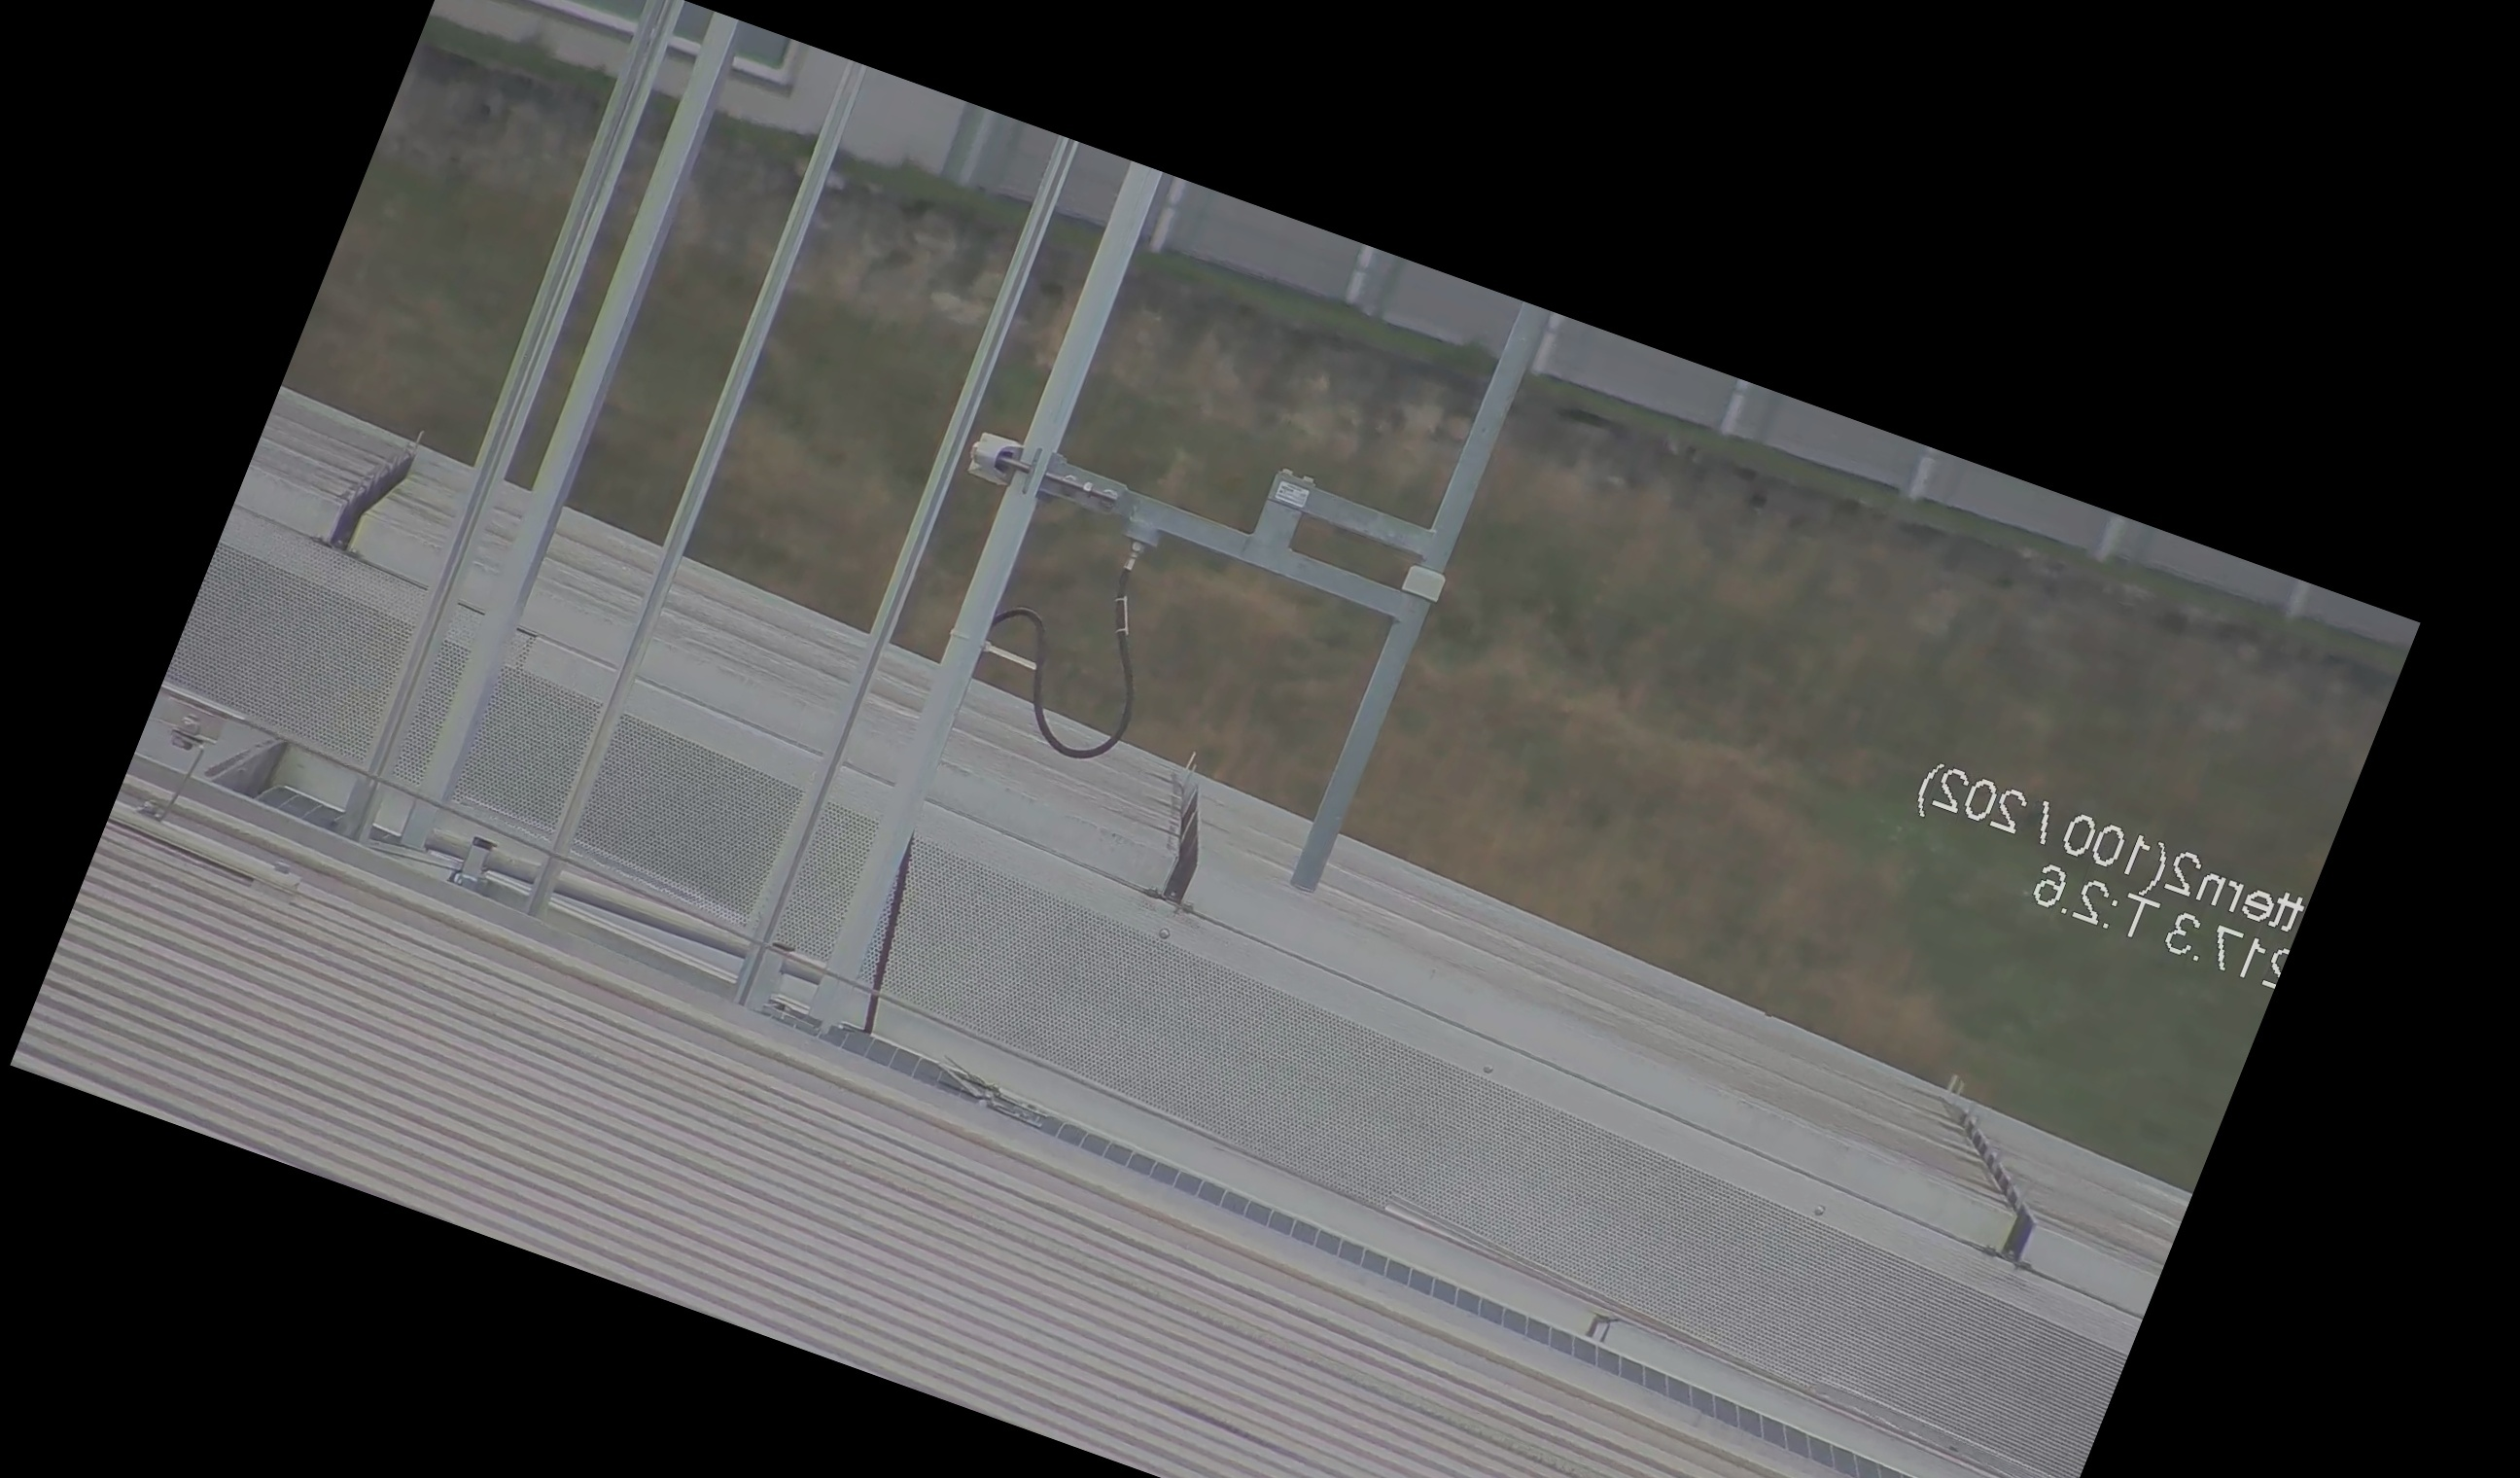Other: (290, 401, 436, 579)
